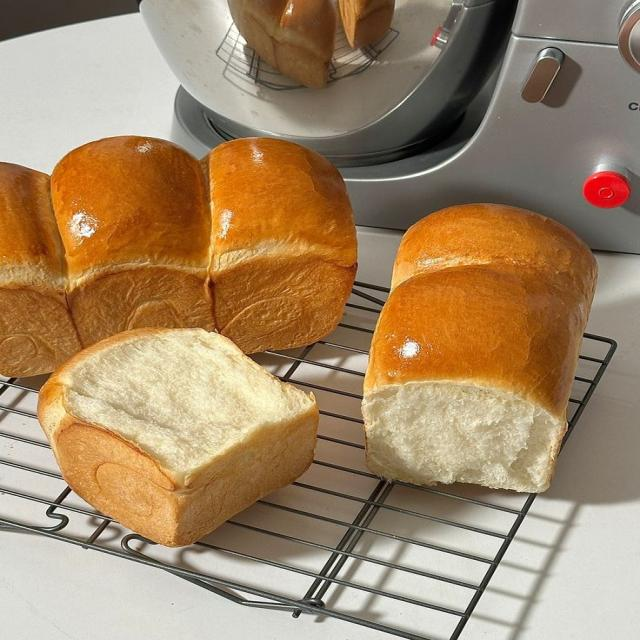bread: (0, 137, 356, 376), (363, 205, 596, 491), (39, 329, 318, 546), (52, 136, 213, 346), (203, 139, 356, 352), (392, 204, 594, 295), (0, 163, 79, 377), (228, 0, 336, 88), (340, 0, 394, 47)
